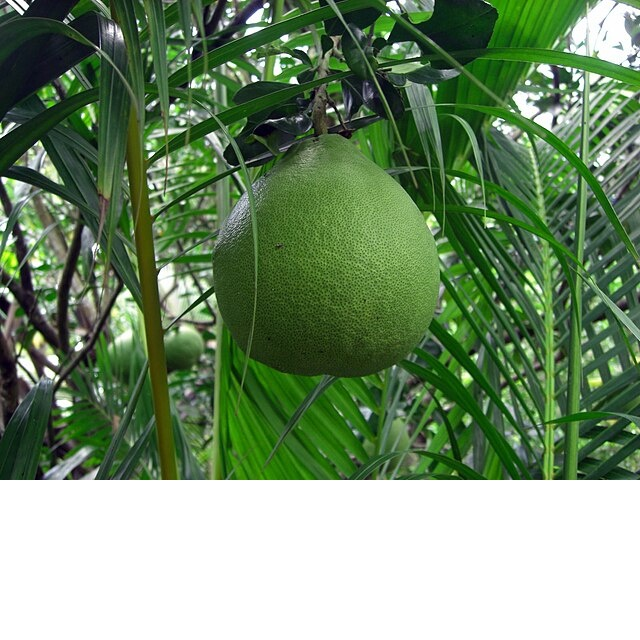buoi: (209, 132, 441, 381)
